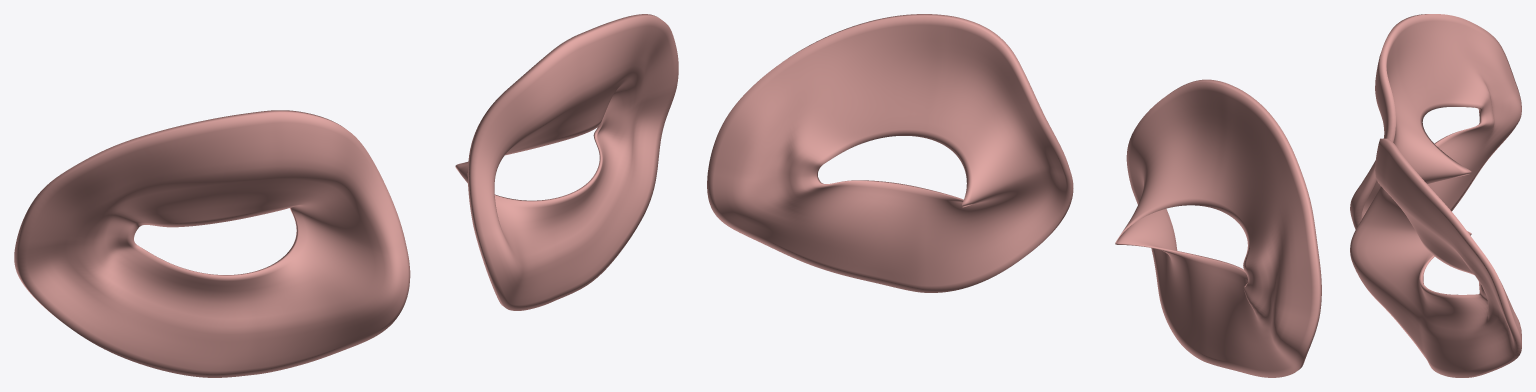
File: orbicularis_oculi.glb
3 views of the same model, side by side, from view 1: azimuth 30°, elevation 25°; view 2: azimuth 150°, elevation 25°; view 3: azimuth 270°, elevation 25° (orthographic). The views are drawn at different scales.
Parts seen in each view (by area): view 1: orbicularis_oculi_R, orbicularis_oculi_L; view 2: orbicularis_oculi_L, orbicularis_oculi_R; view 3: orbicularis_oculi_L, orbicularis_oculi_R.
Boxes of the visible parts, <box> form: orbicularis_oculi_R: <box>14,110,410,377</box>; orbicularis_oculi_L: <box>455,14,678,310</box>; orbicularis_oculi_L: <box>707,14,1073,292</box>; orbicularis_oculi_R: <box>1115,79,1321,377</box>; orbicularis_oculi_L: <box>1350,138,1521,377</box>; orbicularis_oculi_R: <box>1350,14,1521,229</box>.
Size of the model in its own units: 0.1244 by 0.0505 by 0.037.
